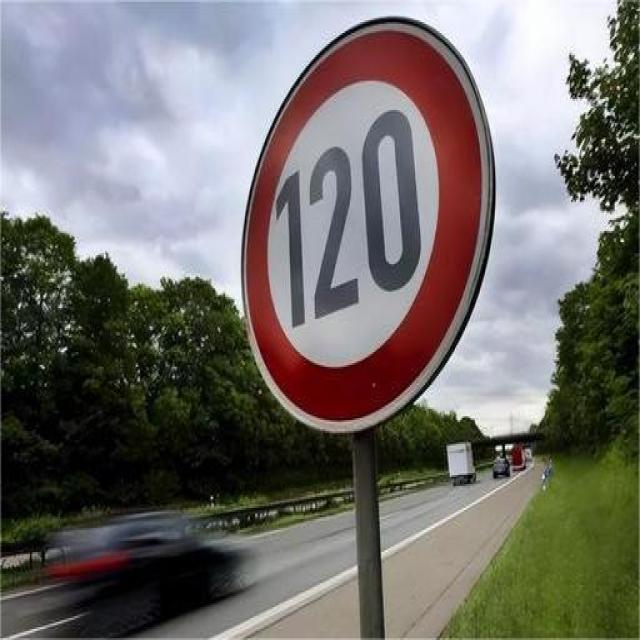speed limit 120: (240, 13, 496, 432)
